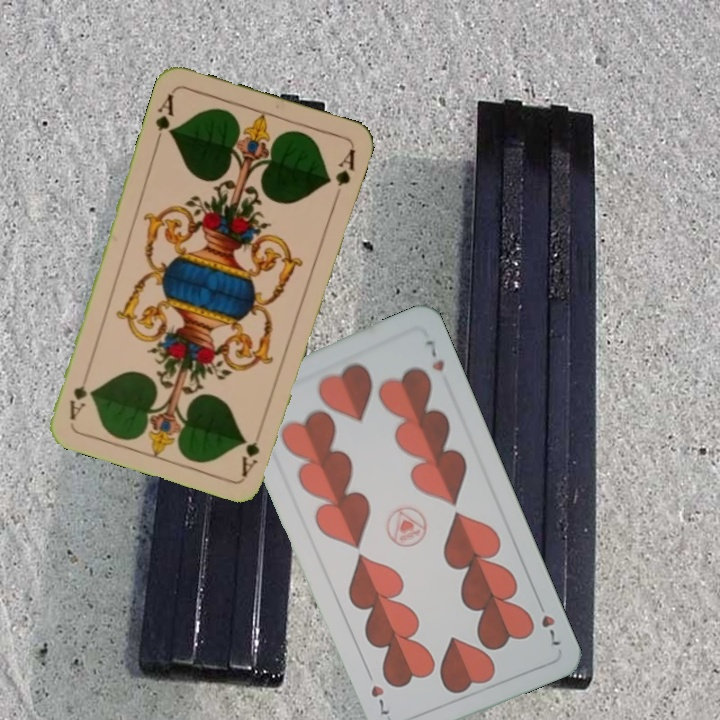GA: (151, 88, 178, 146), (238, 438, 262, 478)
H7: (532, 595, 564, 649)
